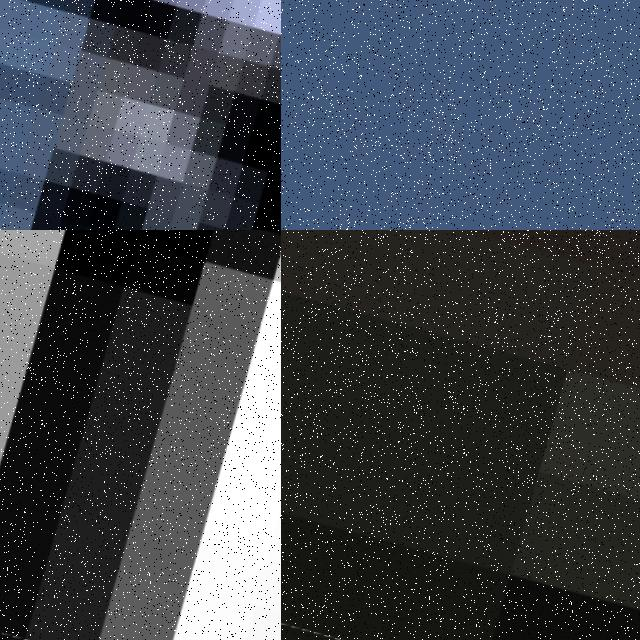0: (0, 0, 281, 230)
drone: (281, 230, 640, 640), (0, 230, 281, 640)
